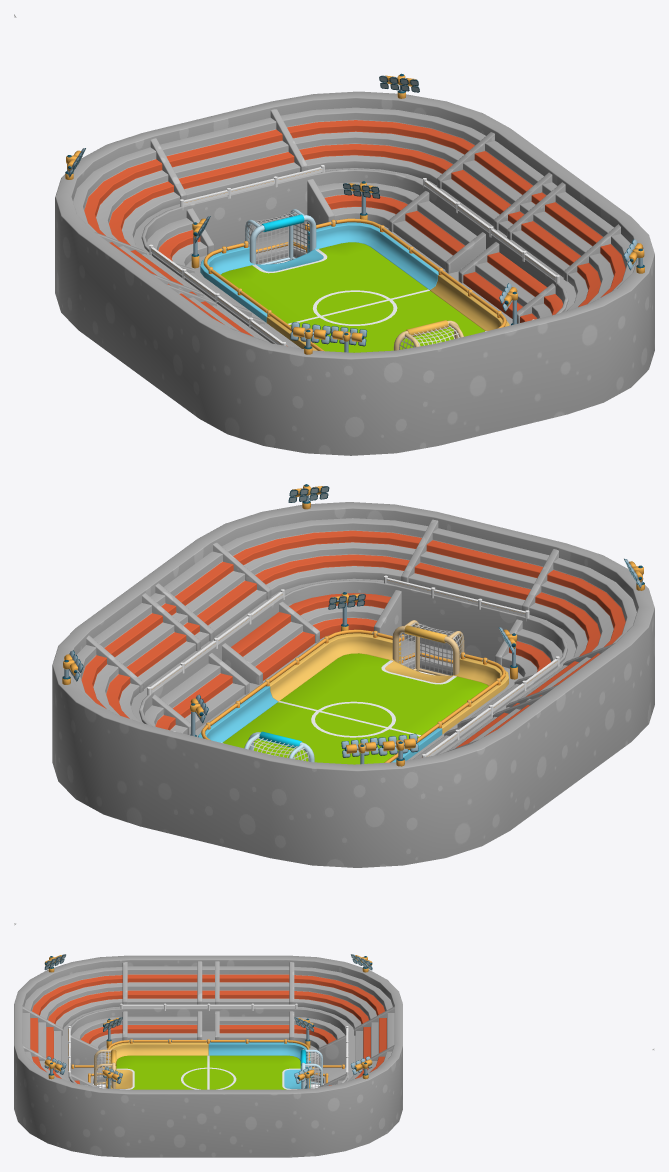
3 views of the same model, one above another, from view 1: azimuth 30°, elevation 25°; view 2: azimuth 150°, elevation 25°; view 3: azimuth 270°, elevation 25° (orthographic). The views are drawn at different scales.
Visible parts, largest first — view 1: Level10VisualsExtra_stands_wall_0; view 2: Level10VisualsExtra_stands_wall_0; view 3: Level10VisualsExtra_stands_wall_0.
Part boxes in pixels (x1,y1,x2,y2): Level10VisualsExtra_stands_wall_0: (14,14,654,455); Level10VisualsExtra_stands_wall_0: (14,484,654,925); Level10VisualsExtra_stands_wall_0: (14,954,654,1157).
Size of the model in its own units: 24.17 by 7.03 by 47.2.
Materials: 18 (4 with a texture image).
